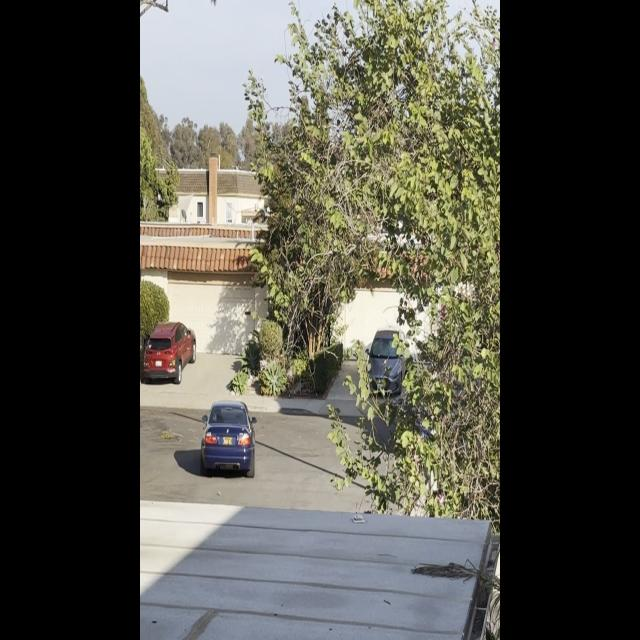Carbeetle: (198, 397, 259, 480)
Civilian: (140, 318, 199, 383), (363, 320, 409, 403)
